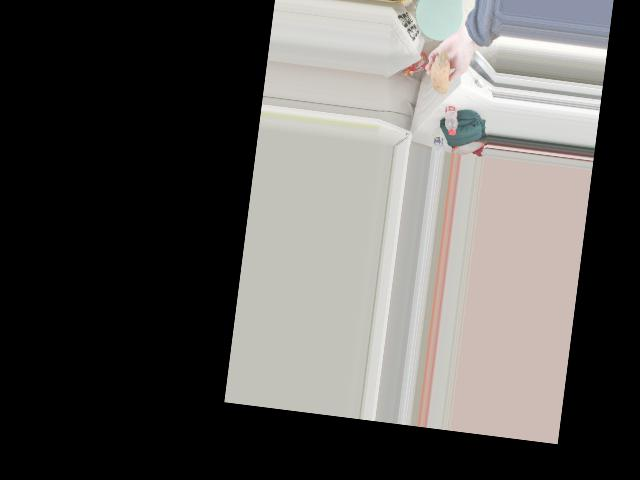sweet_potato: (428, 54, 452, 104)
